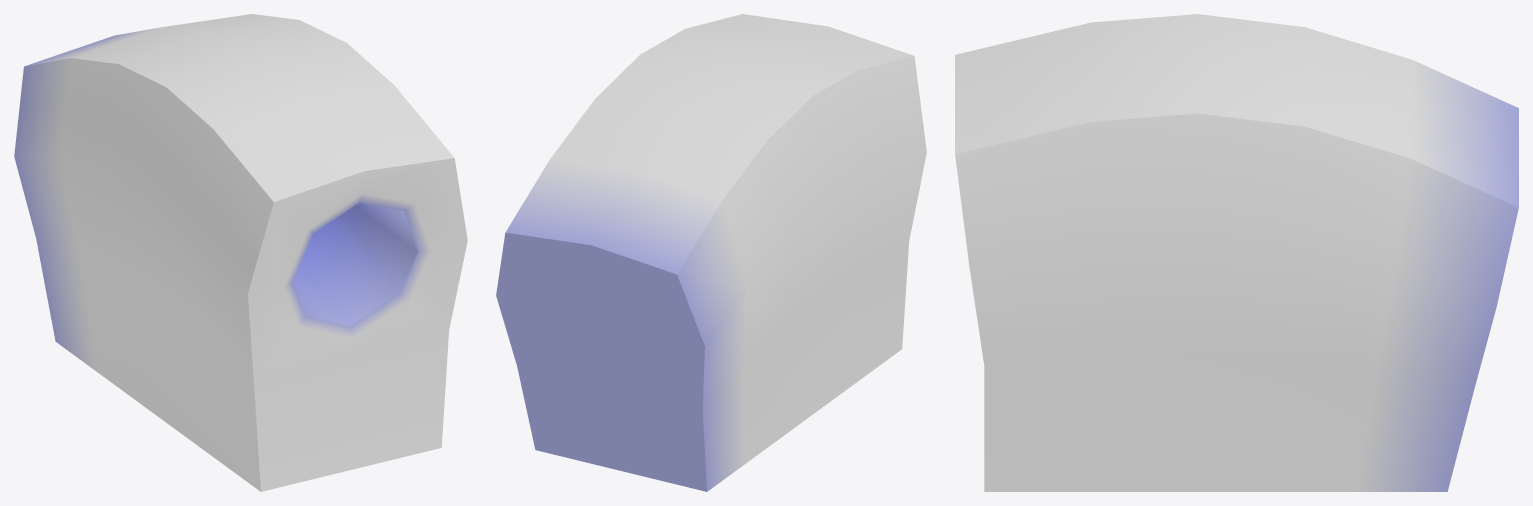
File: ball_return.glb
3 views of the same model, side by side, from view 1: azimuth 30°, elevation 25°; view 2: azimuth 150°, elevation 25°; view 3: azimuth 270°, elevation 25° (orthographic). The views are drawn at different scales.
Parts seen in each view (by area): view 1: Ball Return; view 2: Ball Return; view 3: Ball Return.
Part boxes in pixels (bbox=[...]): Ball Return: bbox=[14, 14, 467, 491]; Ball Return: bbox=[496, 14, 926, 491]; Ball Return: bbox=[955, 14, 1518, 491].
Bounding box in the file's own units: 1.49 × 2.23 × 2.94.
